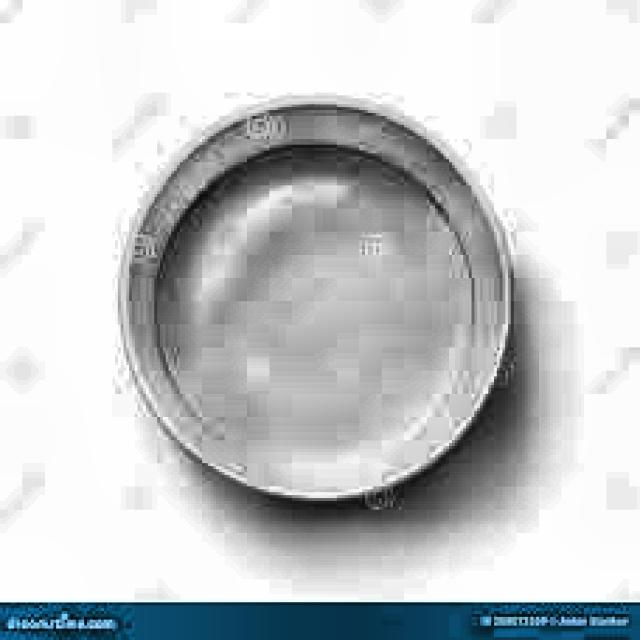Cup: (100, 92, 533, 520)
